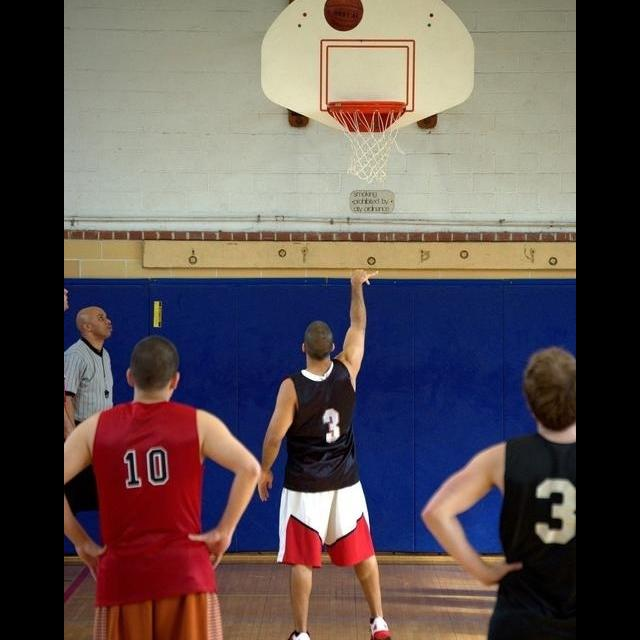basketball: (323, 0, 365, 34)
hoop: (328, 103, 407, 187)
